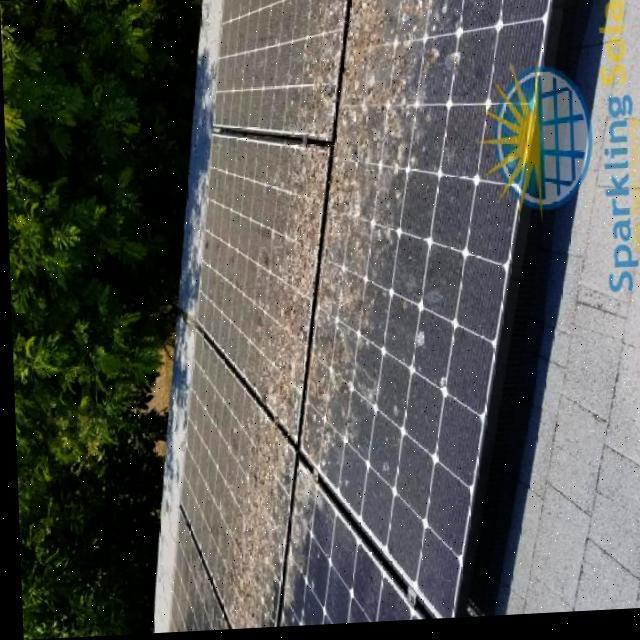Surface Contaminant: (281, 0, 488, 484), (232, 147, 335, 445), (207, 390, 294, 632), (276, 0, 359, 143), (267, 465, 329, 630), (181, 610, 233, 633)
